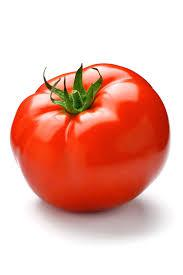tomato: (12, 62, 167, 212)
